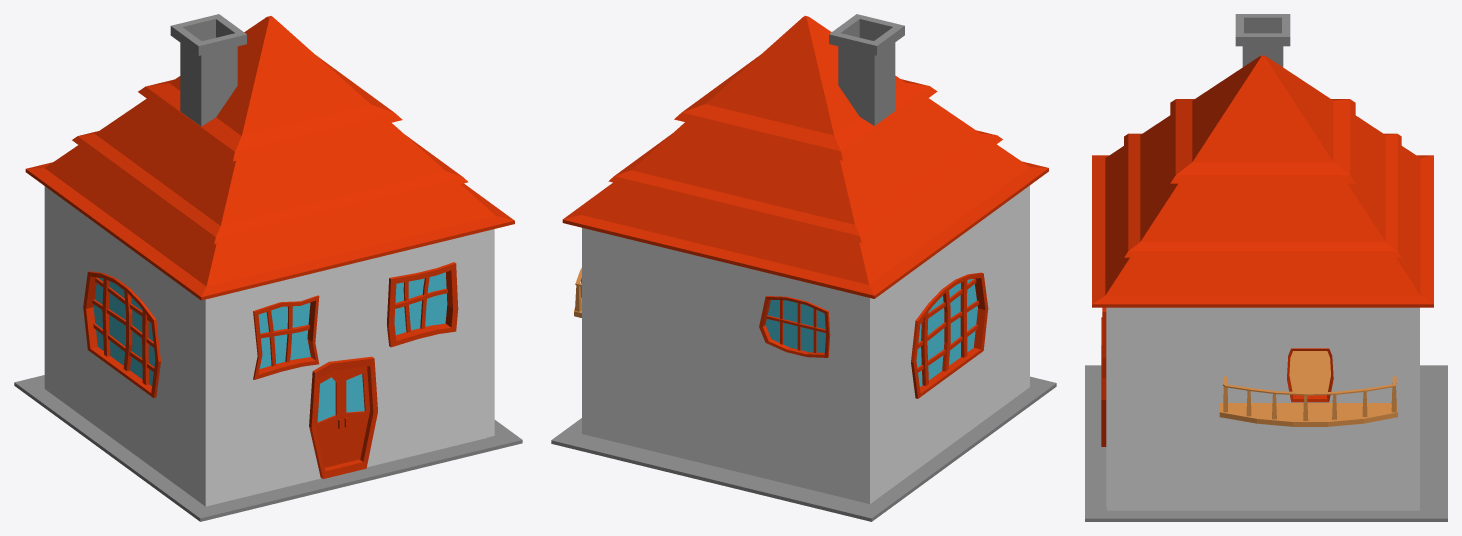
File: cartoon_home.glb
3 views of the same model, side by side, from view 1: azimuth 30°, elevation 25°; view 2: azimuth 150°, elevation 25°; view 3: azimuth 270°, elevation 25° (orthographic). The views are drawn at different scales.
Visible parts, largest first — view 1: Cube; view 2: Cube; view 3: Cube.
Part boxes in pixels (x1,y1,x2,y2): Cube: [14, 14, 522, 521]; Cube: [551, 14, 1056, 521]; Cube: [1085, 14, 1447, 521].
Bounding box in the file's own units: 15.89 × 17.62 × 14.83.
